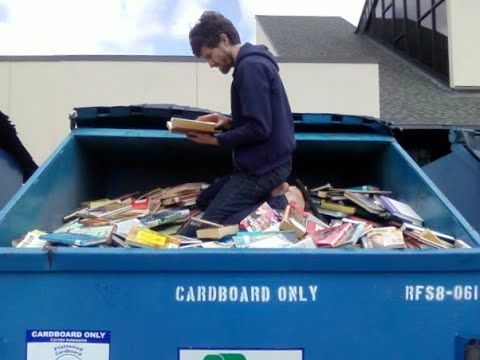Dumpster: (1, 95, 476, 358)
Person: (165, 6, 315, 232)
